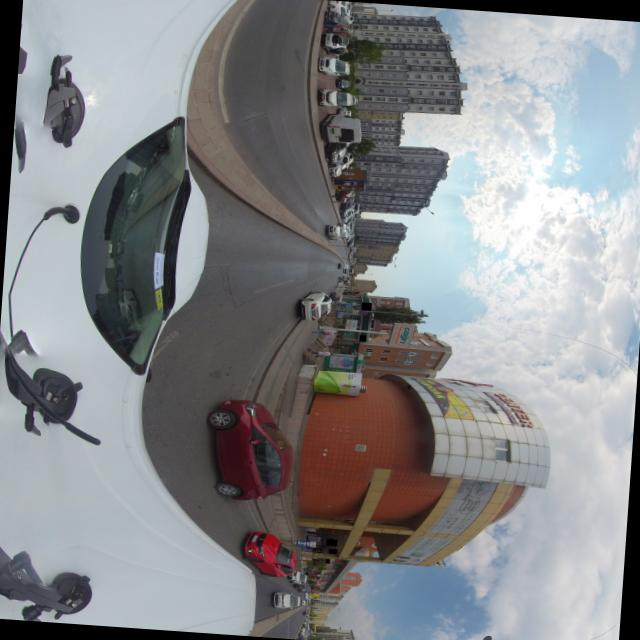SignStore: (325, 538, 336, 546), (360, 302, 370, 310), (327, 548, 336, 554), (358, 335, 365, 342), (324, 558, 329, 563)
